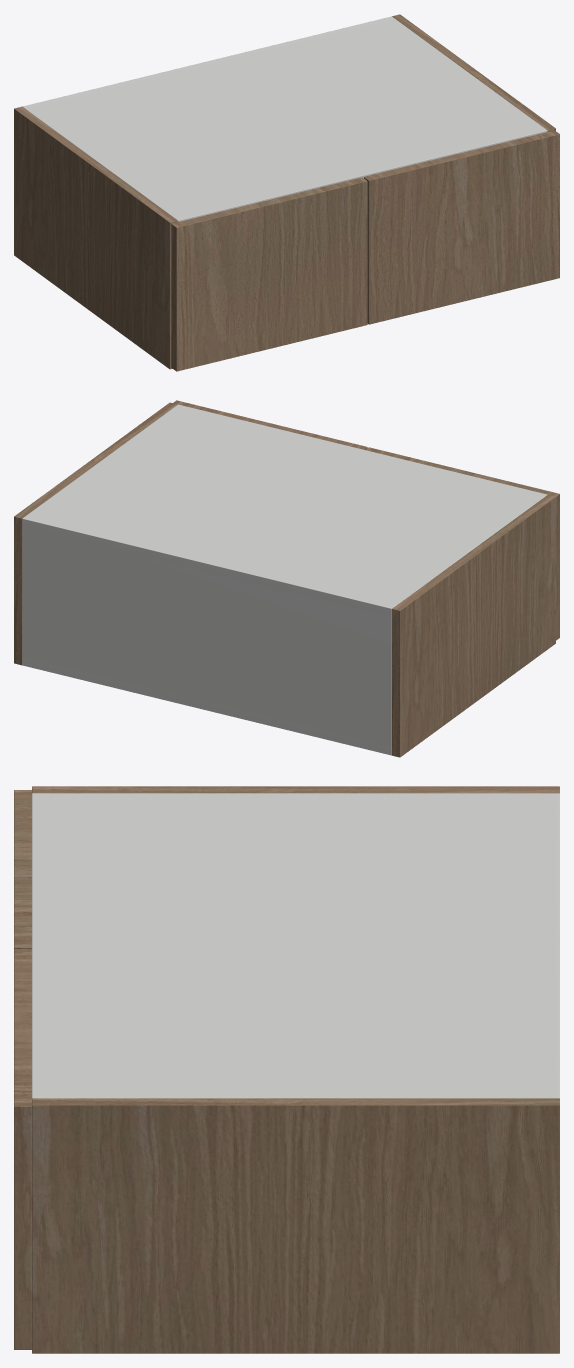
The model's file is oppein-pb-mnw-w331224.glb.
3 views of the same model, one above another, from view 1: azimuth 30°, elevation 25°; view 2: azimuth 150°, elevation 25°; view 3: azimuth 270°, elevation 25° (orthographic). The views are drawn at different scales.
Parts seen in each view (by area): view 1: Cabinet top, Door, Door.001, Cabinet side, Cabinet side.001, Cabinet back; view 2: Cabinet top, Cabinet back, Cabinet side, Cabinet side.001, Cabinet bottom, Door, Door.001; view 3: Cabinet top, Cabinet side.001, Door.001, Cabinet side, Cabinet back, Door.
Part boxes in pixels (box(x1,y1,x2,y2)): Cabinet top: box(23, 17, 547, 221); Door: box(171, 177, 367, 371); Door.001: box(364, 130, 559, 324); Cabinet side: box(14, 106, 177, 369); Cabinet side.001: box(392, 14, 555, 131); Cabinet back: box(22, 16, 394, 108); Cabinet top: box(22, 404, 547, 616); Cabinet back: box(22, 516, 394, 755); Cabinet side: box(392, 494, 555, 757); Cabinet side.001: box(14, 402, 177, 665); Cabinet bottom: box(22, 657, 391, 755); Door: box(365, 447, 559, 640); Door.001: box(173, 400, 367, 449); Cabinet top: box(32, 793, 559, 1098); Cabinet side.001: box(32, 1098, 559, 1353); Door.001: box(14, 949, 31, 1349); Cabinet side: box(32, 786, 559, 793); Cabinet back: box(549, 793, 559, 1098); Door: box(14, 790, 31, 948).
Size of the model in its own units: 0.8382 by 0.3048 by 0.6064.
Materials: 2 (1 with a texture image).
